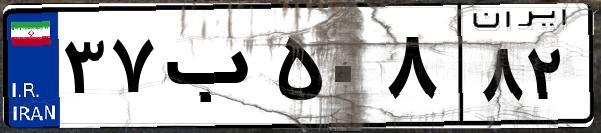0: (330, 28, 385, 110)
2: (525, 38, 570, 115)
3: (57, 26, 110, 100)
5: (270, 28, 330, 110)
7: (110, 28, 158, 98)
8: (385, 28, 445, 110), (475, 38, 525, 113)
ب: (158, 20, 270, 120)
